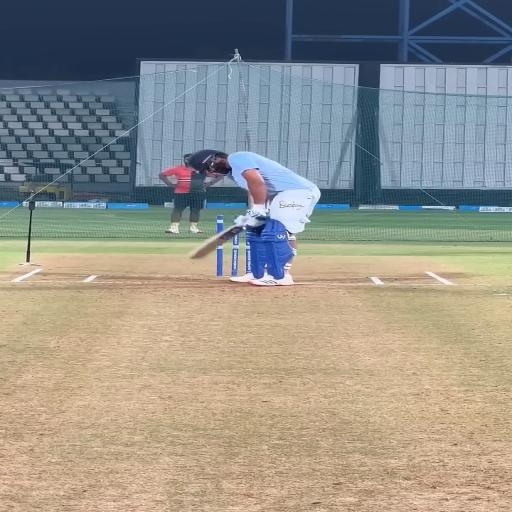Cricket bat: (190, 224, 242, 259)
